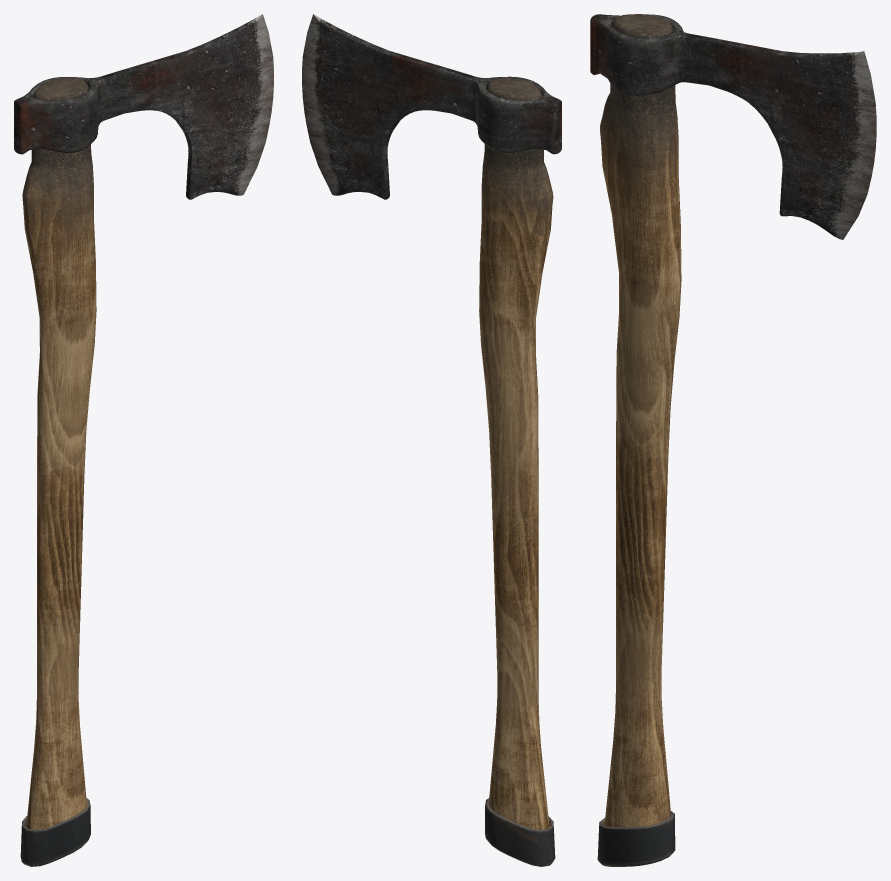
File: axe.glb
3 views of the same model, side by side, from view 1: azimuth 30°, elevation 25°; view 2: azimuth 150°, elevation 25°; view 3: azimuth 330°, elevation 25° (orthographic). The views are drawn at different scales.
Parts seen in each view (by area): view 1: axe; view 2: axe; view 3: axe.
Boxes of the visible parts, x1=… form: axe: x1=14, y1=14, x2=273, y2=866; axe: x1=302, y1=14, x2=561, y2=866; axe: x1=590, y1=14, x2=876, y2=866.
Bounding box in the file's own units: 0.2679 × 0.7879 × 0.059.
1 material, 1 textured.
